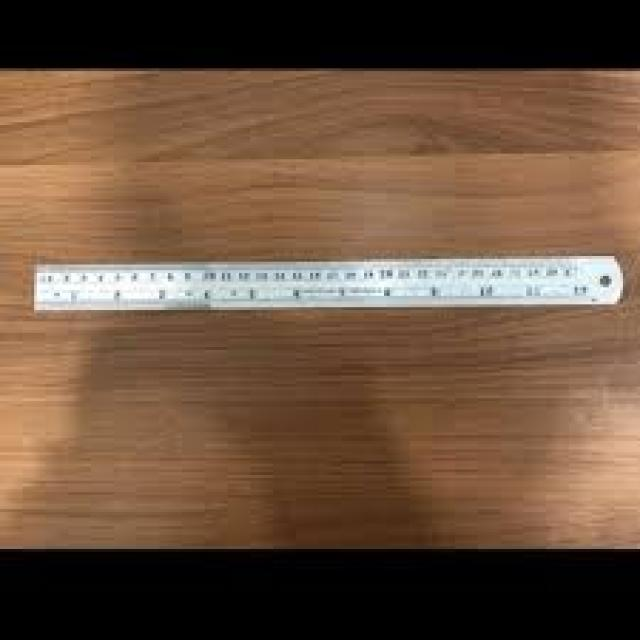Ruler: (37, 256, 620, 310)
